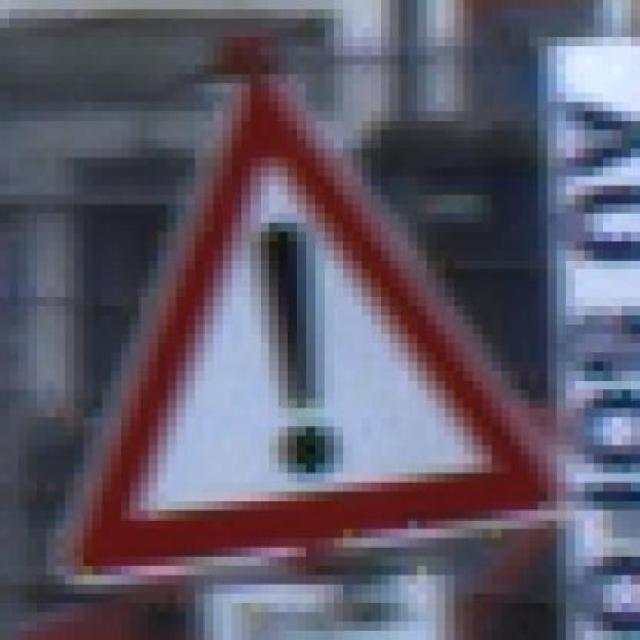Attention Please-: (37, 74, 594, 594)
